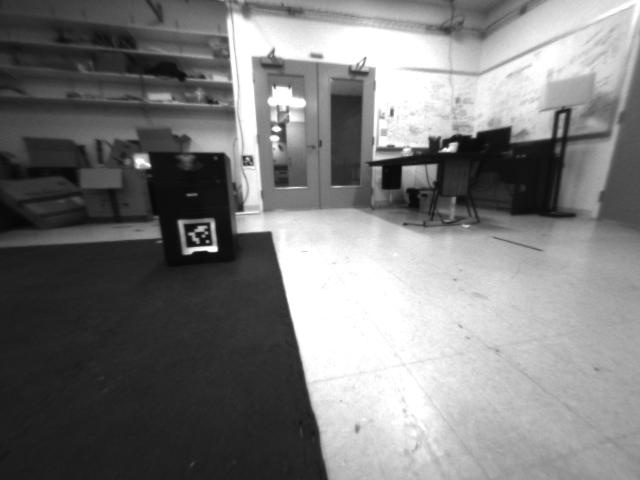door_handle: (301, 140, 319, 154)
drawer: (170, 152, 202, 175)
